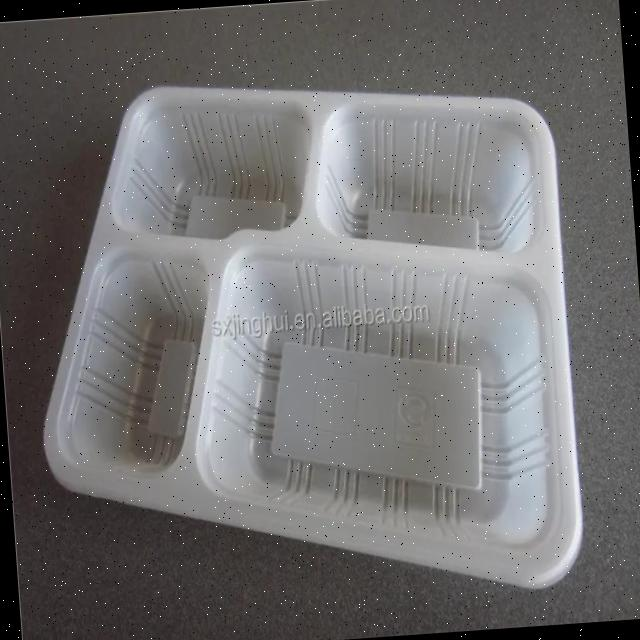styrofoam: (18, 55, 589, 622)
